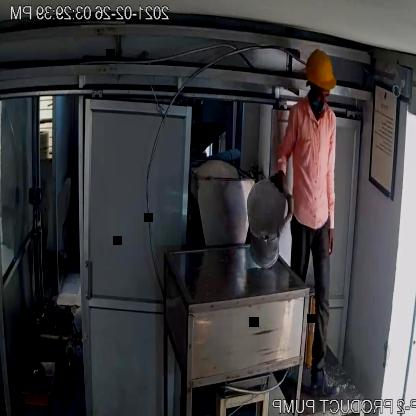helmet: (301, 51, 343, 91)
